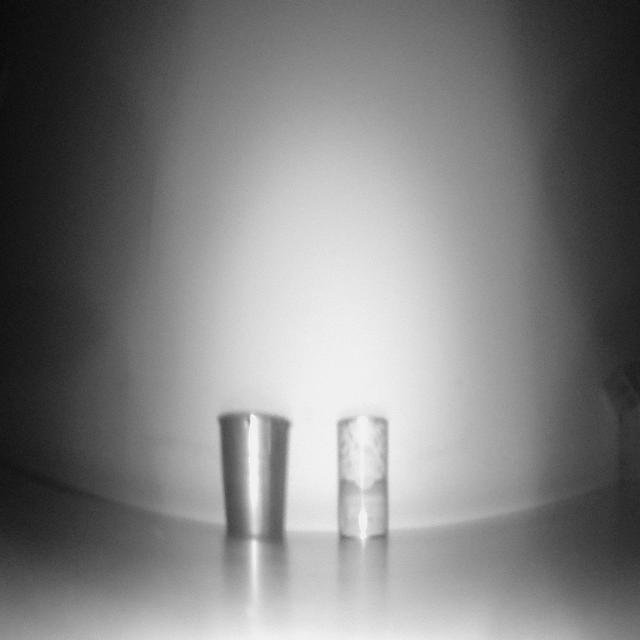targets: (332, 399, 390, 554), (218, 412, 286, 539), (600, 374, 640, 489)
